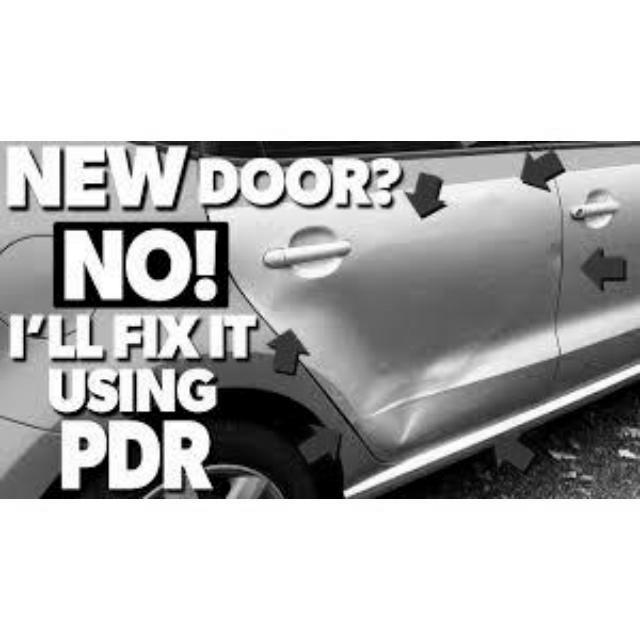doorouter-dent: (244, 158, 544, 456)
